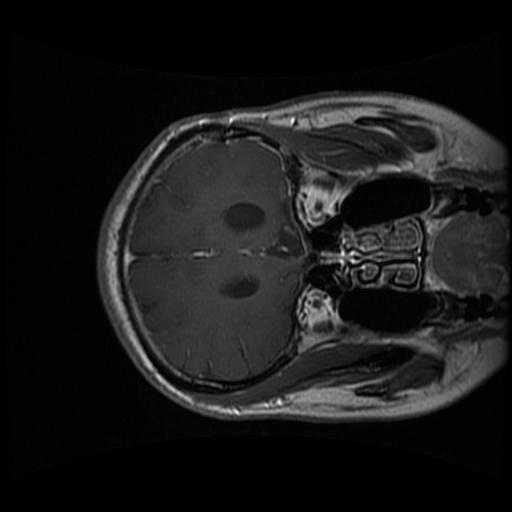glioma: (261, 217, 304, 260)
